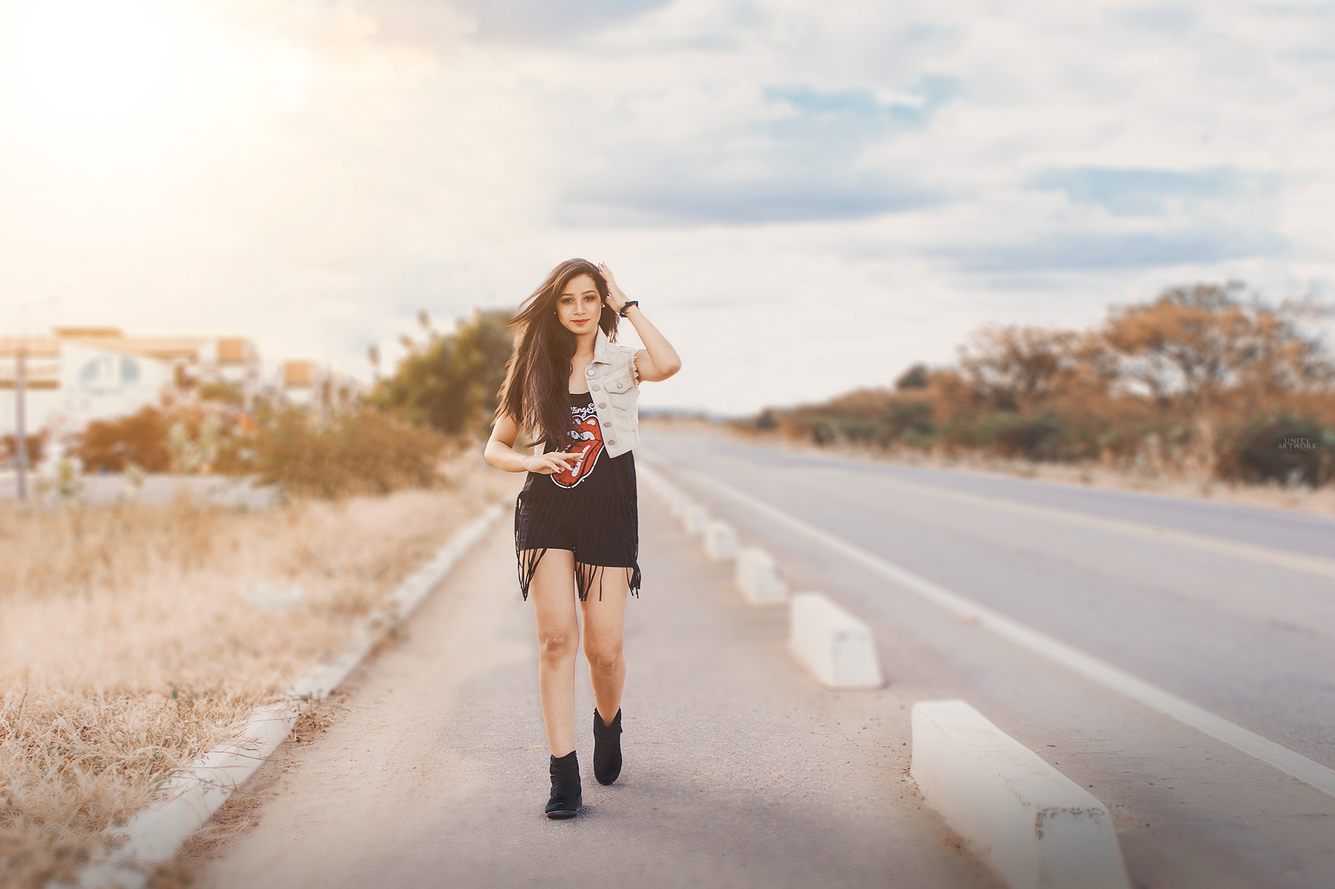Person: (487, 251, 675, 829)
